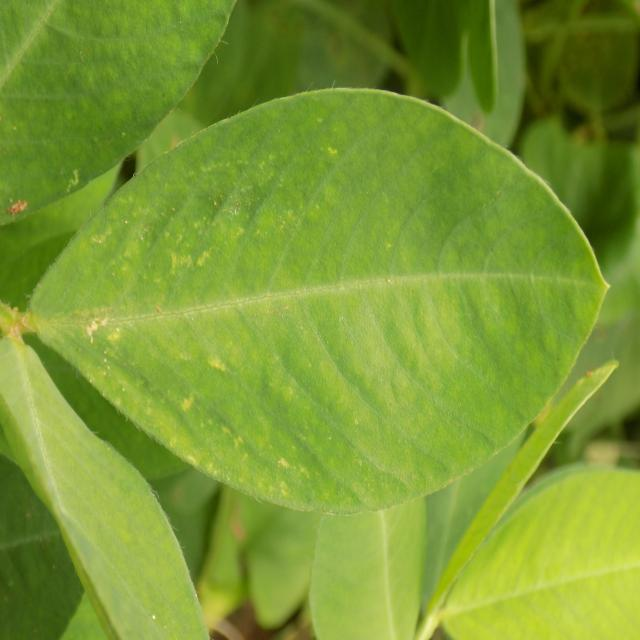Ground nut_healthy: (26, 88, 606, 508)
